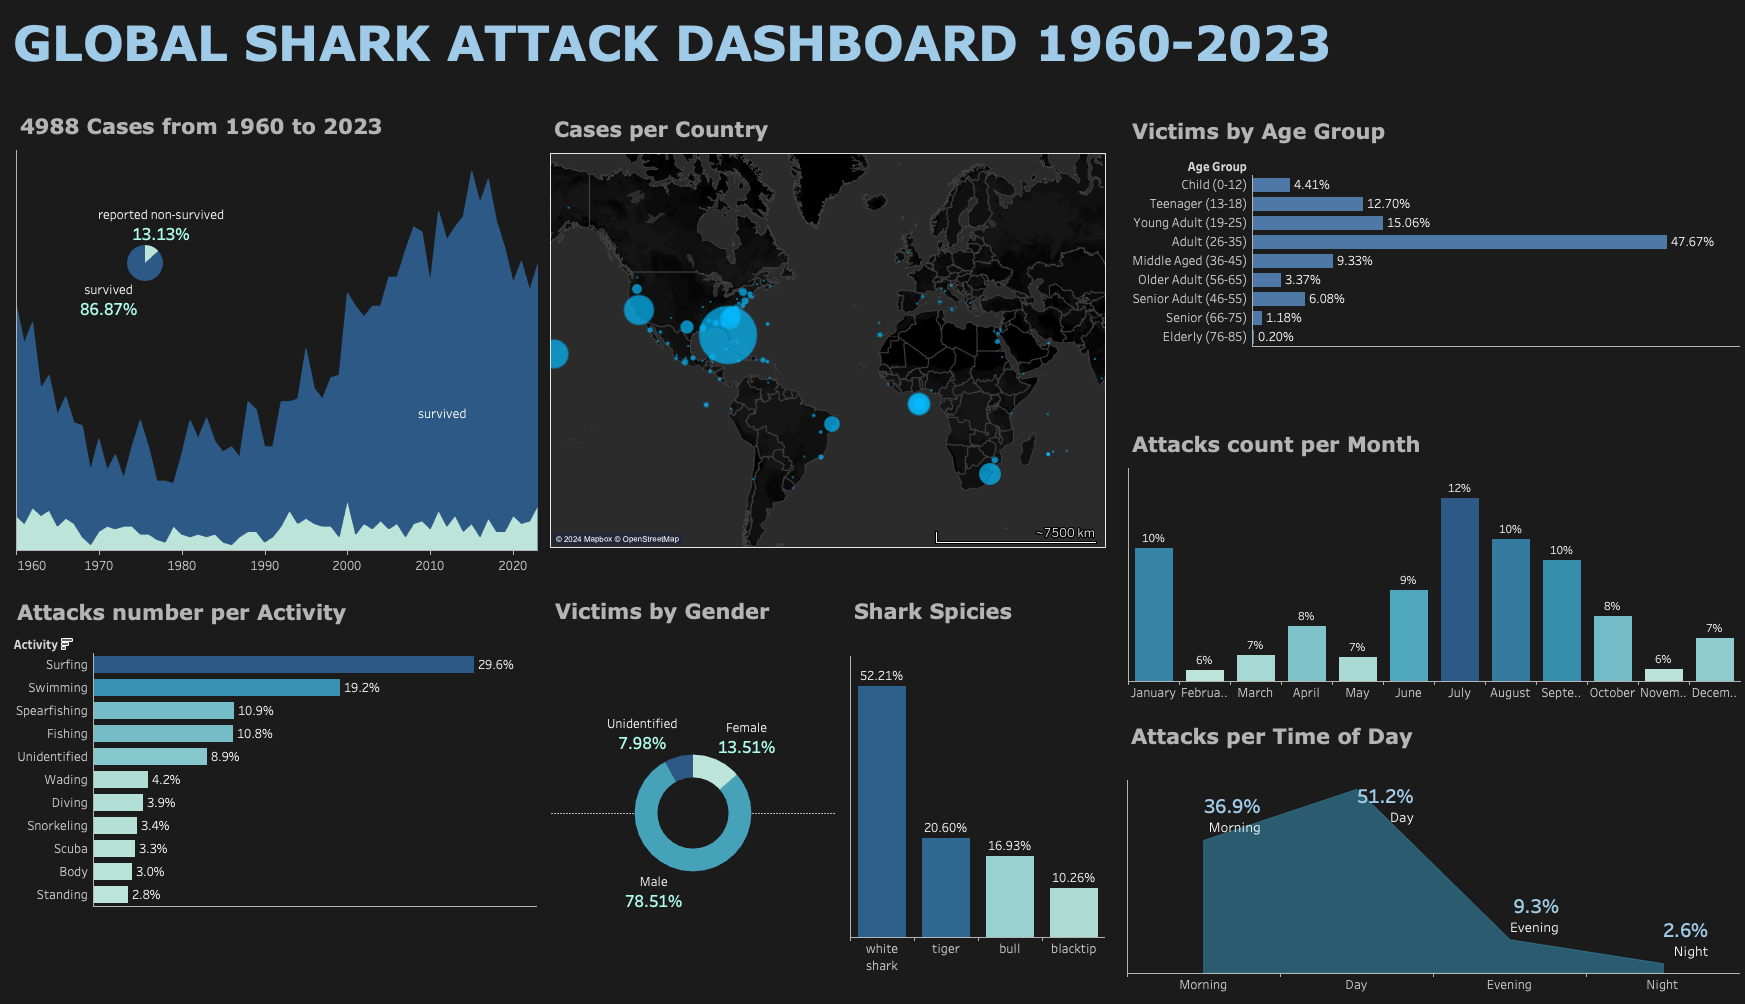

What the dashboard file says about the page in this screenshot:
{"tool":"tableau","page":{"name":"Dashboard 1","canvas":[1280,800],"ordinal":0},"visuals":[{"type":"title","box":[0,0,1280,45]},{"type":"worksheet","title":"Total Cases ","mark":"Text","box":[0,45,401,93]},{"type":"worksheet","title":"Fatality Rate%","mark":"Automatic","box":[401,45,559,93]},{"type":"worksheet","title":"Sharks Species total","mark":"Automatic","box":[960,45,320,93]},{"type":"worksheet","title":"Over Years","mark":"Automatic","rows":["Calculation_4867124609122754560"],"cols":["year"],"box":[0,138,401,331]},{"type":"worksheet","title":"Gender","mark":"Pie","rows":["Calculation_4867124609277267969","Calculation_4867124609277267969"],"box":[401,138,354,220.7]},{"type":"worksheet","title":"Spicies bars","mark":"Automatic","rows":["Calculation_4867124609122754560"],"cols":["species_types"],"box":[755,138,229,424]},{"type":"worksheet","title":"Victims by Age Group","mark":"Automatic","rows":["Calculation_4867124609122754560"],"cols":["age_group"],"box":[984,138,290,424]},{"type":"legend","title":"Over Years","param":"[federated.02xo90j0uqm2q612sf77t1mm7451].[none:fatality_status:nk]","box":[42.3,209.2,114.7,53.6]},{"type":"worksheet","title":"Time of Day","mark":"Area","rows":["Calculation_4867124609122754560"],"cols":["time_of_day"],"box":[401,358.7,354,220.7]},{"type":"worksheet","title":"Country Map","mark":"Automatic","box":[0,469,401,331]},{"type":"worksheet","title":"Activity","mark":"Automatic","rows":["activity"],"cols":["Calculation_4867124609122754560"],"box":[755,562,525,238]},{"type":"worksheet","title":"Month","mark":"Bar","rows":["Calculation_4867124609122754560"],"cols":["correct_date"],"box":[401,579.3,354,220.7]}]}

Visuals, with their boxes on the page's 1280x800 design canvas (x1, y1, x2, y2). These are canvas units, not pixel positions in the 1745x1004 screenshot, which may show the page scaled, cropped or inside an application window:
title: <box>0,0,1280,45</box>
"Total Cases " worksheet (Text marks): <box>0,45,401,138</box>
"Fatality Rate%" worksheet: <box>401,45,960,138</box>
"Sharks Species total" worksheet: <box>960,45,1280,138</box>
"Over Years" worksheet: <box>0,138,401,469</box>
"Gender" worksheet (Pie marks): <box>401,138,755,359</box>
"Spicies bars" worksheet: <box>755,138,984,562</box>
"Victims by Age Group" worksheet: <box>984,138,1274,562</box>
"Over Years" legend: <box>42,209,157,263</box>
"Time of Day" worksheet (Area marks): <box>401,359,755,579</box>
"Country Map" worksheet: <box>0,469,401,800</box>
"Activity" worksheet: <box>755,562,1280,800</box>
"Month" worksheet (Bar marks): <box>401,579,755,800</box>
